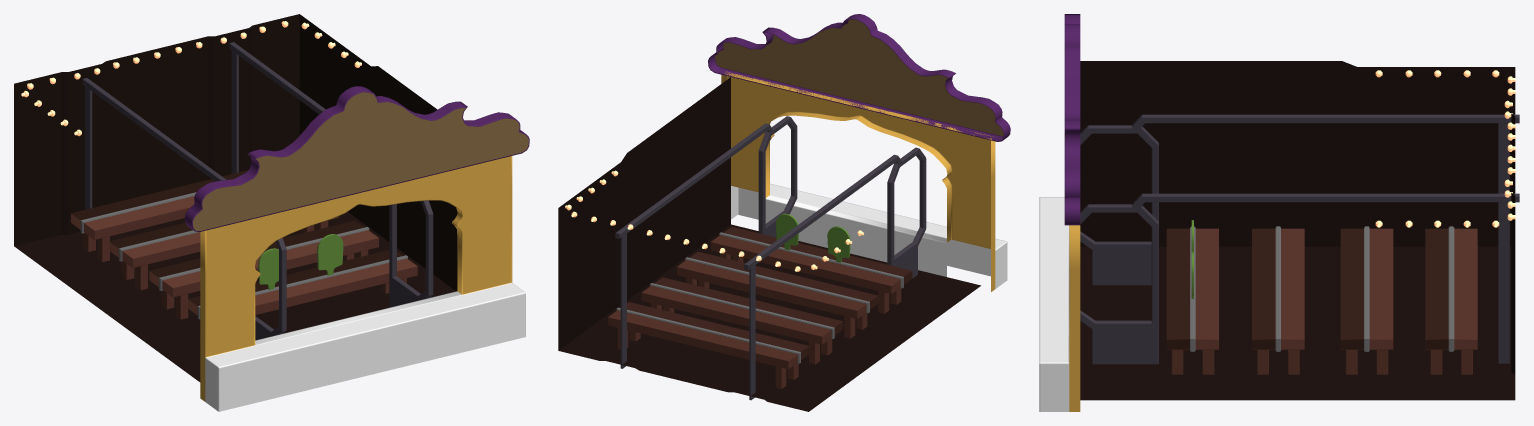
Rendered from DoNotDelete_Gallery.fbx.
3 renders of one model, left to right at view 1: azimuth 30°, elevation 25°; view 2: azimuth 150°, elevation 25°; view 3: azimuth 270°, elevation 25°, orthographic. The views are drawn at different scales.
Parts seen in each view (by area): view 1: Gallery, Target 02, Target 01; view 2: Gallery, Target 01, Target 02; view 3: Gallery.
Part boxes in pixels (bbox=[...]): Gallery: bbox=[14, 14, 529, 411]; Target 02: bbox=[317, 234, 343, 275]; Target 01: bbox=[258, 248, 278, 289]; Gallery: bbox=[558, 14, 1010, 411]; Target 01: bbox=[827, 226, 850, 262]; Target 02: bbox=[776, 213, 798, 250]; Gallery: bbox=[1039, 14, 1519, 411].
Bounding box in the file's own units: 553 × 429 × 617.
